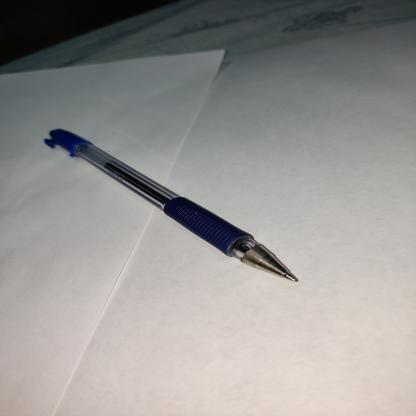Pen: (38, 123, 350, 349)
